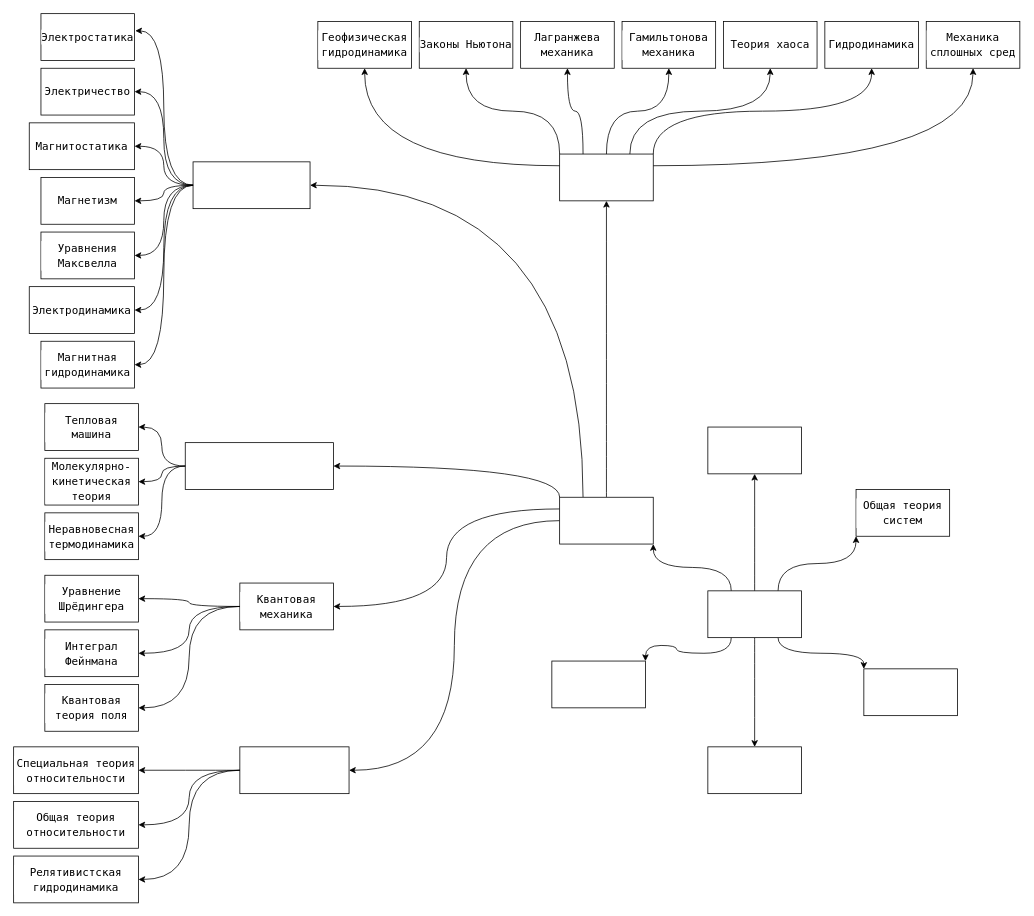
Some shapes in this 1034 by 916 pixel diagram are drawn without their labels. The shapes that lost their labels are listed below. From the top down, each one's centre as x and y in pixels, then its label:
pixel 251 185: Электромагнетизм
pixel 606 177: Классическая механика
pixel 258 465: Термодинамика и Статистическая физика
pixel 606 520: Физика
pixel 754 614: Области науки для изучения
pixel 294 770: Теория относительности
